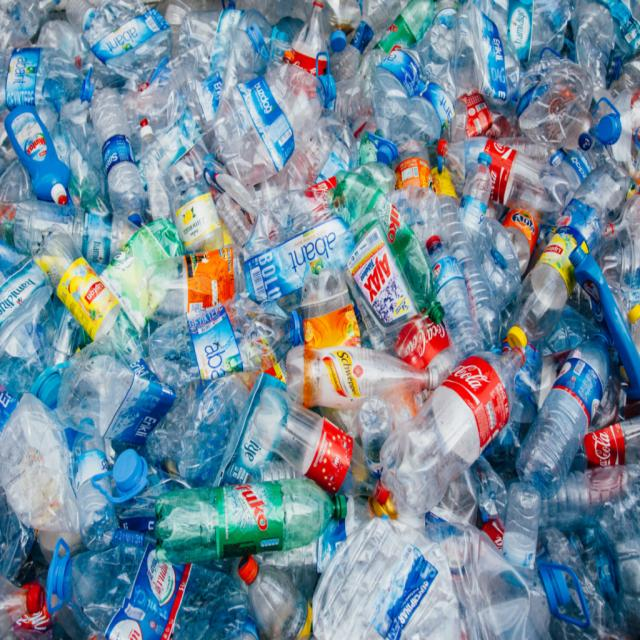plastic_bottle: (369, 312, 558, 557), (130, 466, 358, 588), (505, 298, 634, 508), (17, 216, 162, 387), (430, 121, 587, 243)
